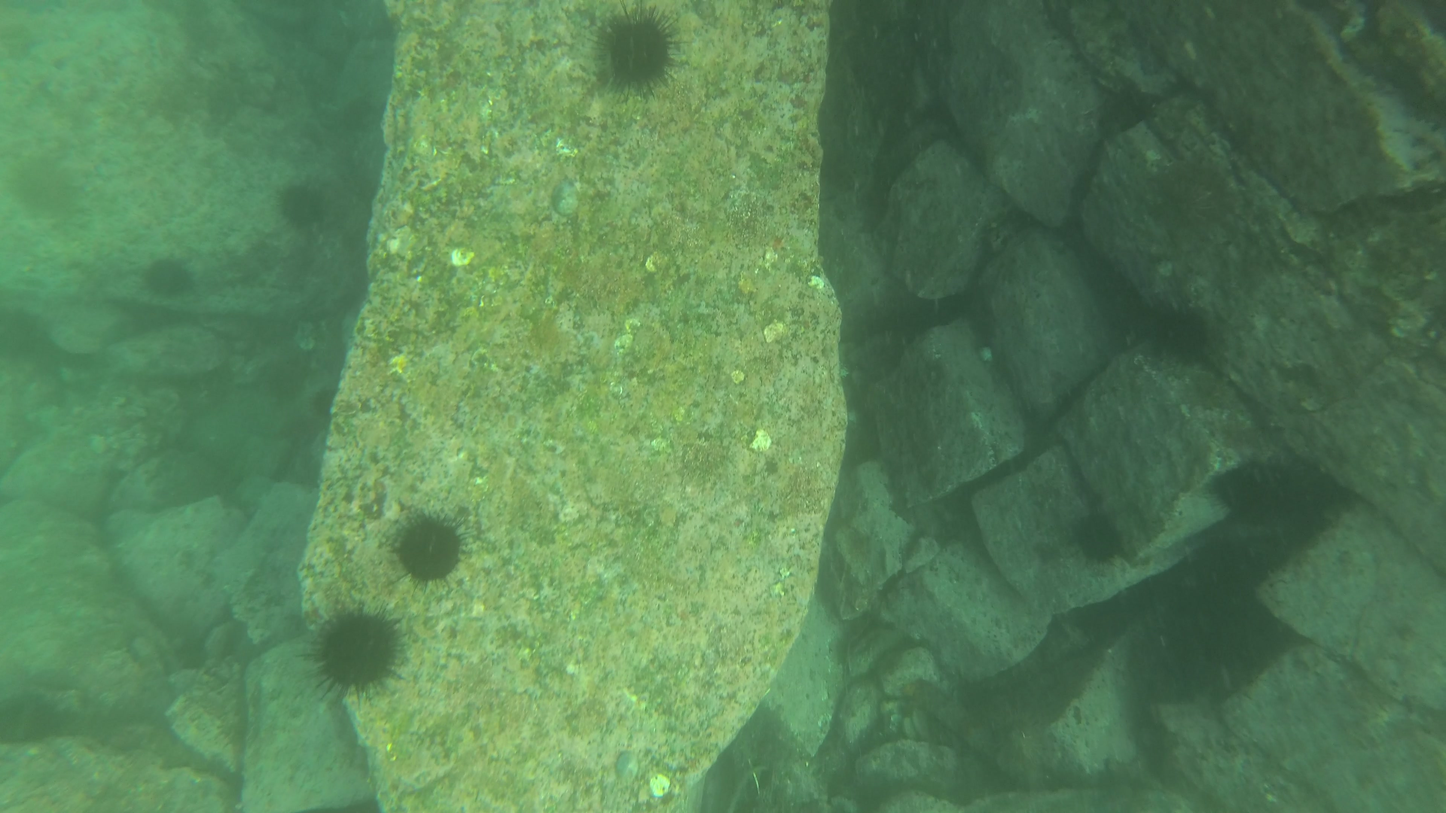starfish: (308, 621, 412, 692), (598, 11, 685, 94), (1209, 451, 1290, 528), (393, 508, 470, 583), (8, 689, 76, 746), (1155, 305, 1213, 367), (272, 181, 335, 230), (139, 261, 204, 301), (1077, 516, 1123, 567)
